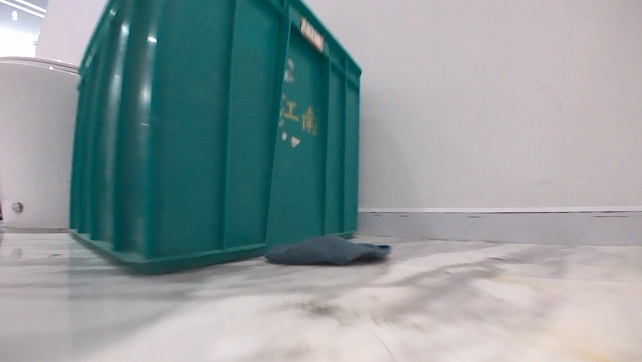socks: (261, 230, 395, 267)
toilet: (1, 51, 80, 229)
